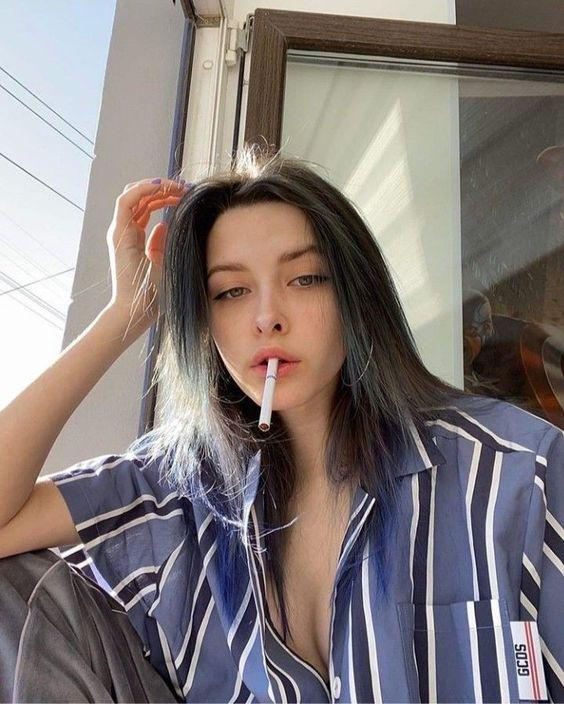cigarette: (205, 196, 345, 433), (258, 357, 279, 433)
